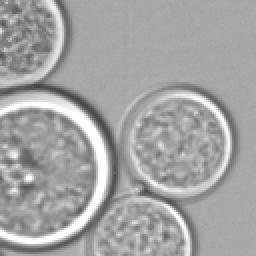picoshell: (0, 84, 114, 250), (118, 84, 236, 200), (80, 192, 197, 256)
